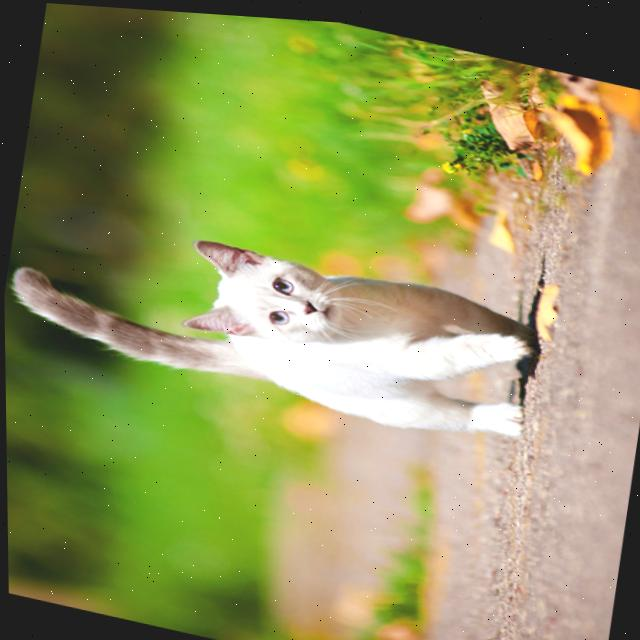Munchkin: (2, 189, 554, 453)
